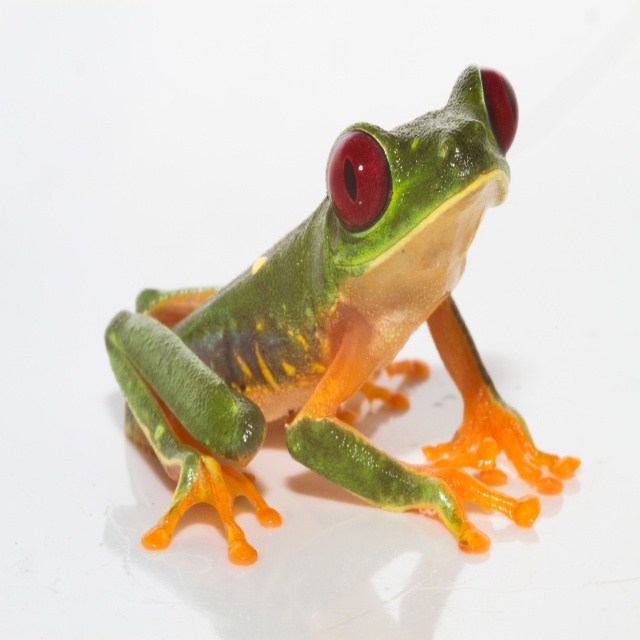Frog: (101, 59, 584, 566)
